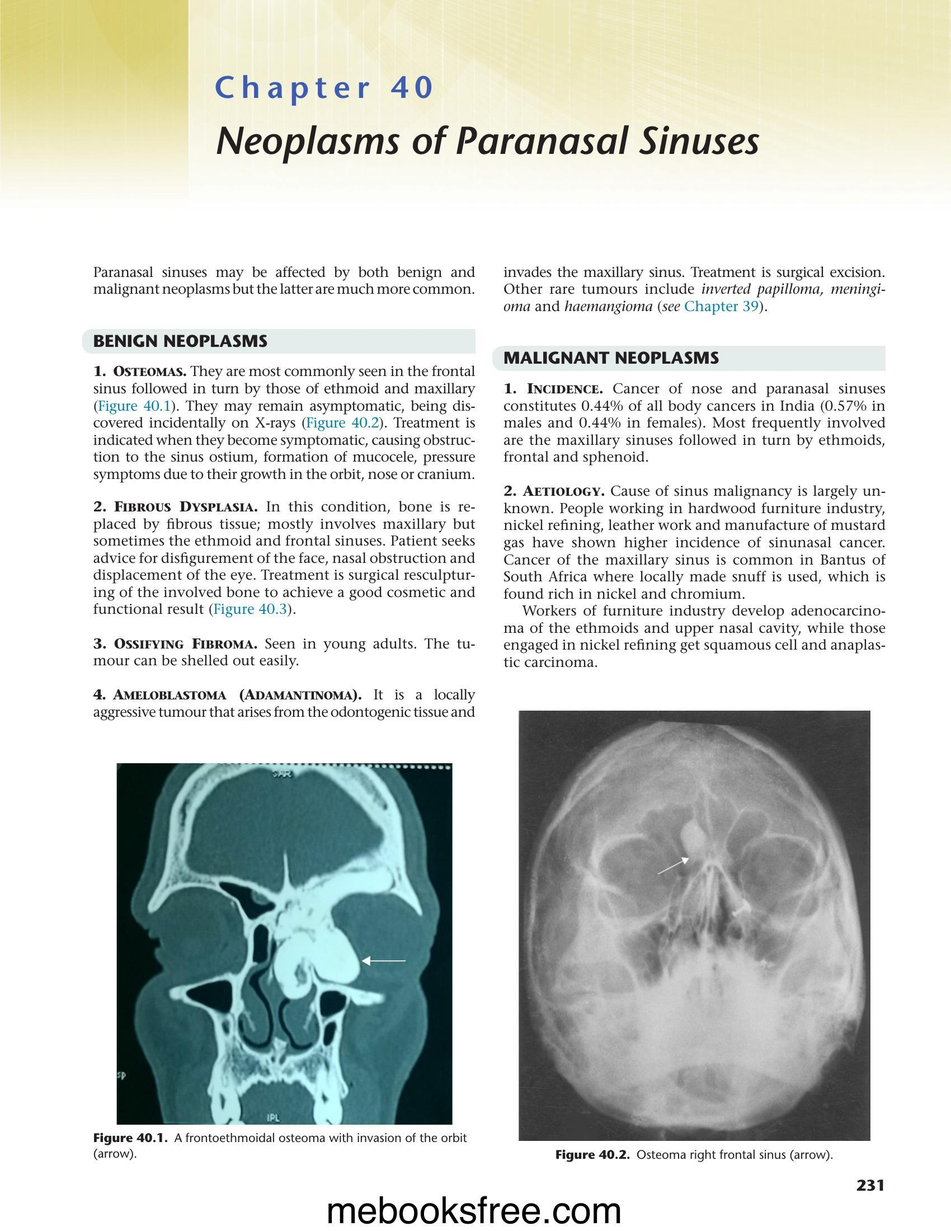caption: (92, 1132, 468, 1162), (555, 1148, 834, 1163)
chapter-heading: (215, 122, 763, 167)
image: (518, 710, 871, 1140), (116, 762, 454, 1124)
list: (92, 364, 476, 723), (503, 382, 887, 668)
section-heading: (503, 349, 720, 365), (92, 333, 268, 348)
text: (503, 265, 887, 316), (93, 264, 476, 299)
